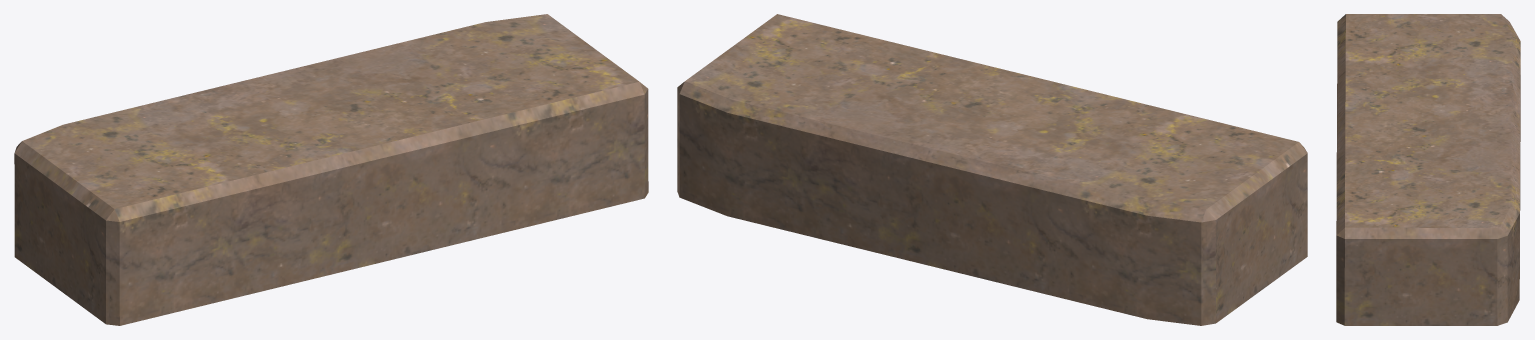
Rendered from jovhouse_stoneplate1.fbx.
3 renders of one model, left to right at view 1: azimuth 30°, elevation 25°; view 2: azimuth 150°, elevation 25°; view 3: azimuth 270°, elevation 25°, orthographic. The views are drawn at different scales.
Parts seen in each view (by area): view 1: jovhouse_stoneplate1; view 2: jovhouse_stoneplate1; view 3: jovhouse_stoneplate1.
Part boxes in pixels (x1,y1,x2,y2): jovhouse_stoneplate1: (14, 14, 648, 325); jovhouse_stoneplate1: (677, 14, 1307, 325); jovhouse_stoneplate1: (1336, 14, 1520, 325).
Size of the model in its own units: 291 by 57.93 by 102.
